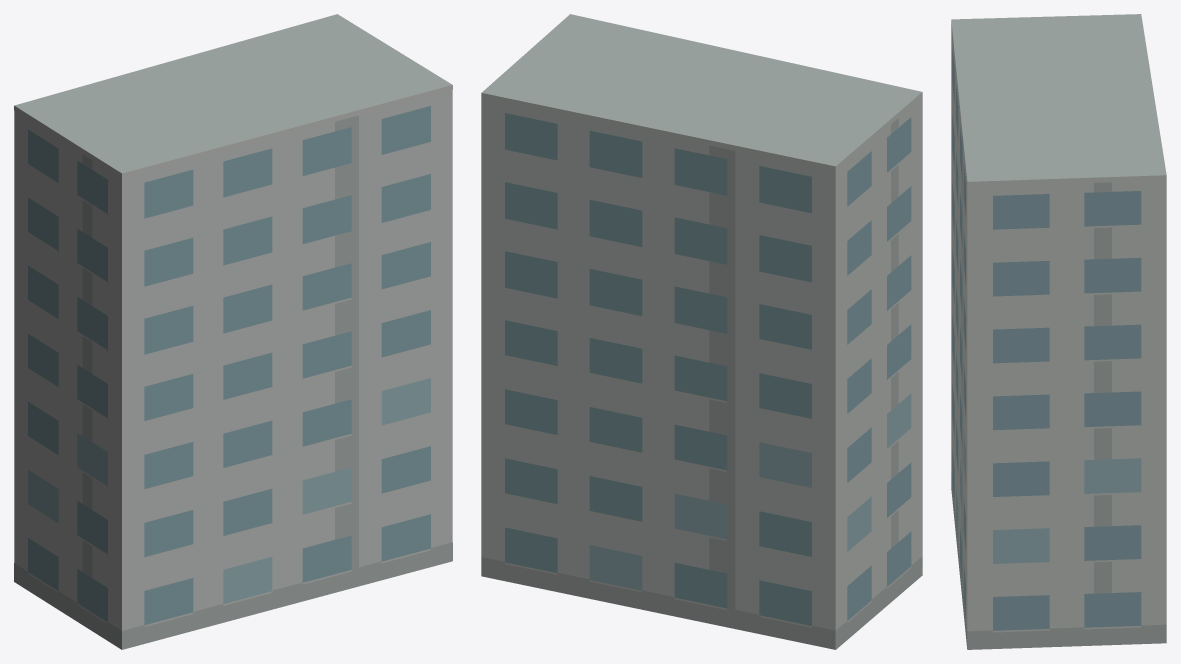
Rendered from survey-upis-32732565.glb.
3 views of the same model, side by side, from view 1: azimuth 30°, elevation 25°; view 2: azimuth 150°, elevation 25°; view 3: azimuth 270°, elevation 25° (orthographic). The views are drawn at different scales.
Visible parts, largest first — view 1: survey-upis-32732565.tmp; view 2: survey-upis-32732565.tmp; view 3: survey-upis-32732565.tmp.
Part boxes in pixels (left/top/right/bottom): survey-upis-32732565.tmp: left=14, top=14, right=452, bottom=649; survey-upis-32732565.tmp: left=481, top=14, right=922, bottom=649; survey-upis-32732565.tmp: left=951, top=14, right=1166, bottom=649.
Size of the model in its own units: 17.1 by 22.22 by 9.28.
